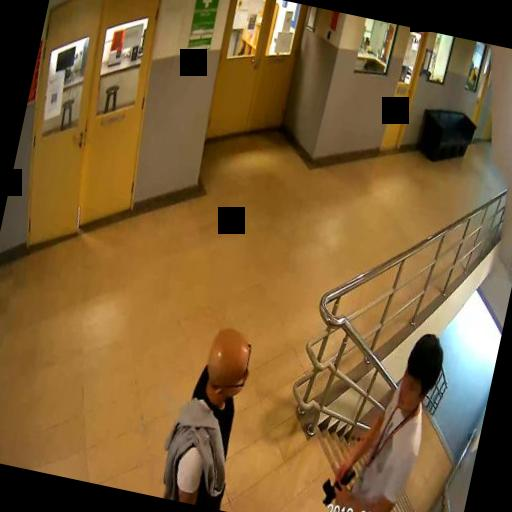Handgun: (317, 462, 355, 508)
